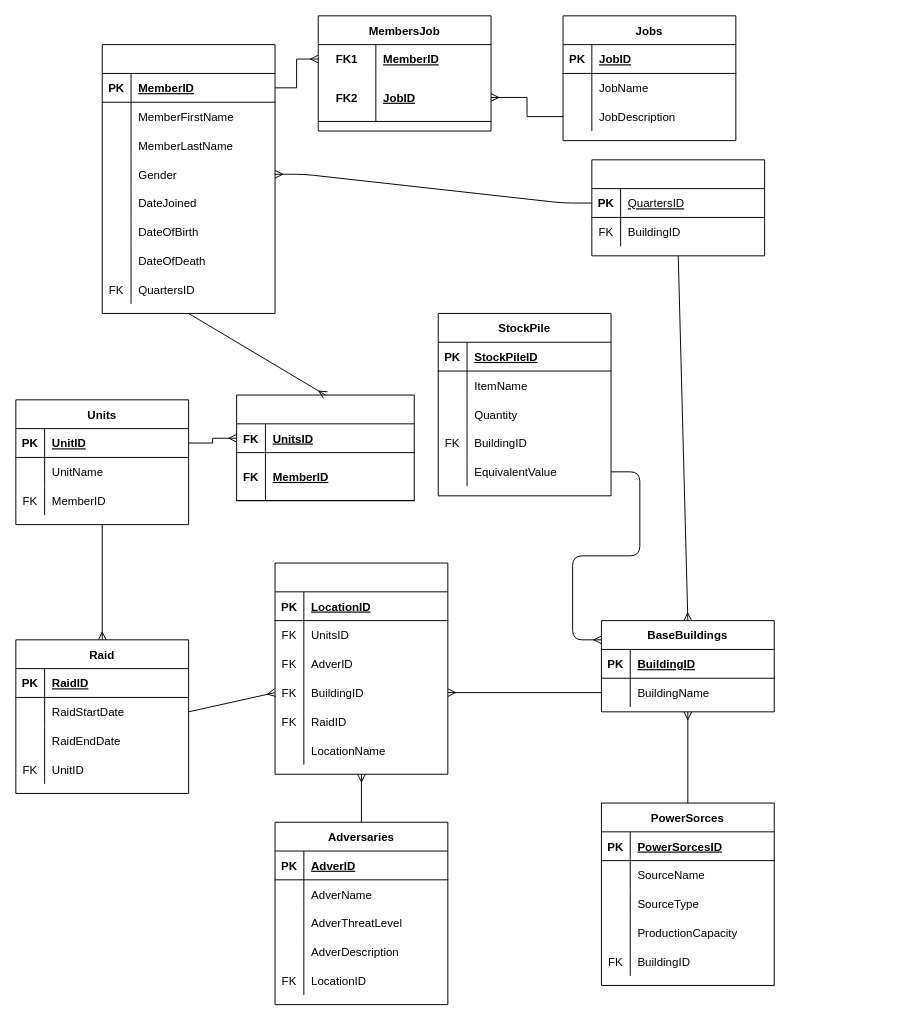
Image size: 905x1020. Some labels were removed from this diagram. The shapes that lost their labels are listed below. From the top down, each one's box as (x1, y1, x2, y2) in pixels, then its label:
(101, 44, 275, 313): Members
(591, 159, 765, 256): LivingQuarters
(236, 394, 414, 501): UnitsMembers
(274, 562, 448, 774): Locations
